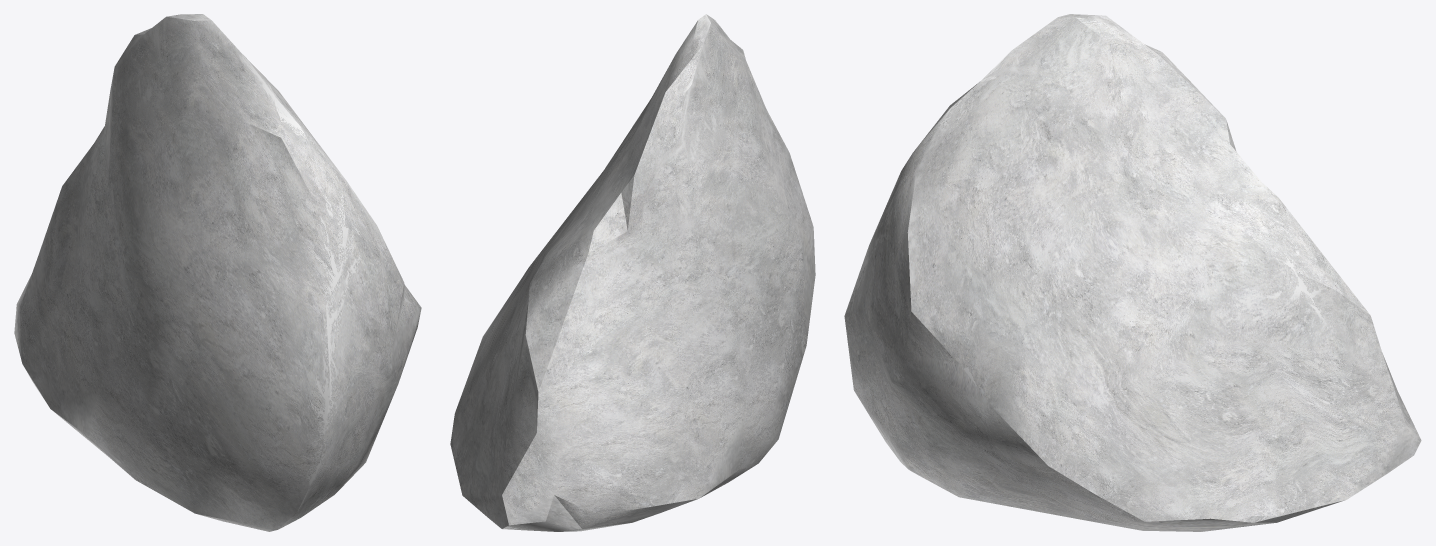
The model's file is rock_00E_lp2.fbx.
3 renders of one model, left to right at view 1: azimuth 30°, elevation 25°; view 2: azimuth 150°, elevation 25°; view 3: azimuth 270°, elevation 25°, orthographic. The views are drawn at different scales.
Visible parts, largest first — view 1: rock_00E_lp2; view 2: rock_00E_lp2; view 3: rock_00E_lp2.
Part boxes in pixels (bbox=[...]): rock_00E_lp2: bbox=[14, 14, 421, 531]; rock_00E_lp2: bbox=[450, 14, 815, 531]; rock_00E_lp2: bbox=[844, 14, 1421, 531].
Bounding box in the file's own units: 154 × 237 × 268.
